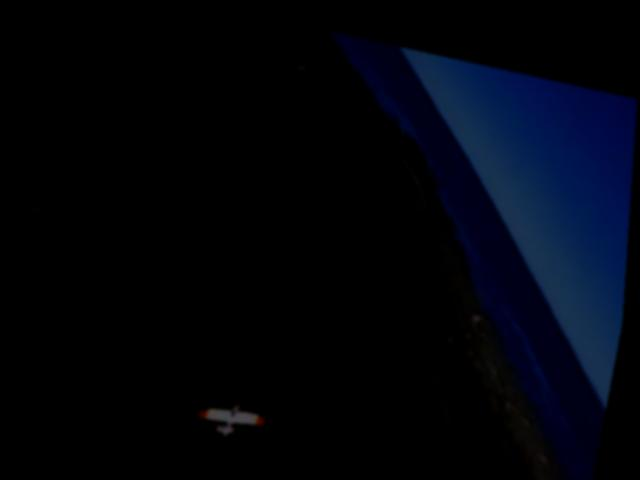uav: (195, 382, 276, 441)
